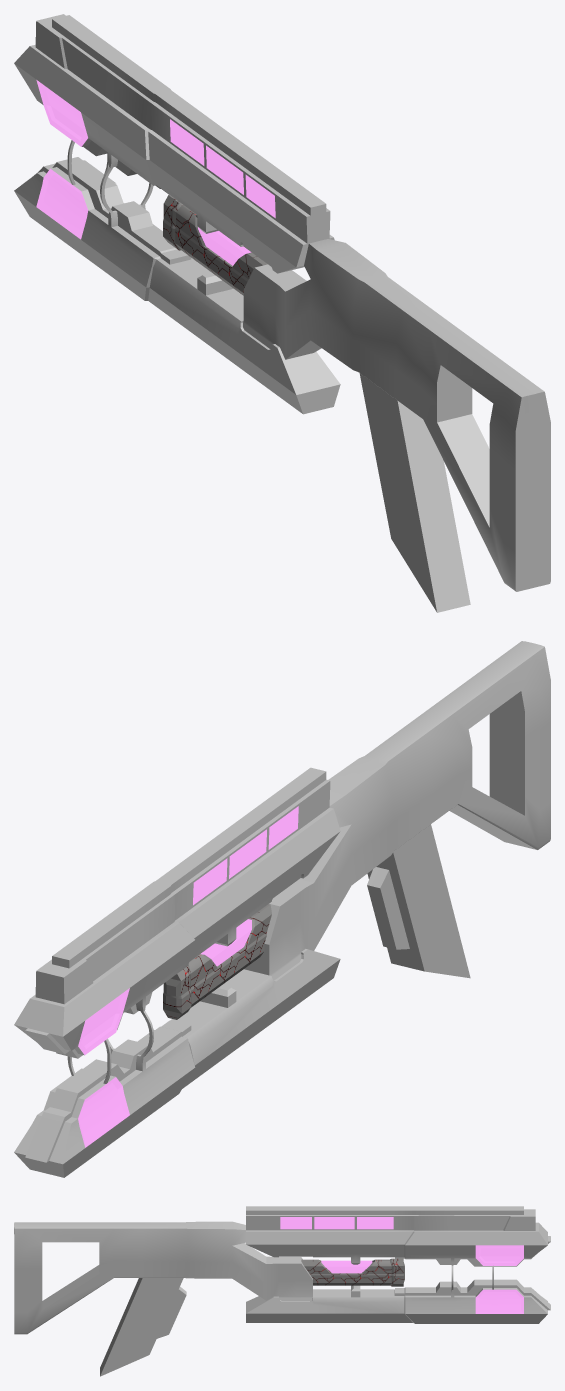
Rendered from BeamGunModel.fbx.
The picture shows the model from 3 angles, top to bottom: view 1: azimuth 30°, elevation 25°; view 2: azimuth 150°, elevation 25°; view 3: azimuth 270°, elevation 25°; orthographic projection. The views are drawn at different scales.
Visible parts, largest first — view 1: BeamGun; view 2: BeamGun; view 3: BeamGun.
Part boxes in pixels (left/top/right/bottom): BeamGun: left=14, top=14, right=550, bottom=612; BeamGun: left=14, top=641, right=550, bottom=1177; BeamGun: left=14, top=1206, right=550, bottom=1376.
Bounding box in the file's own units: 524 × 32.01 × 176.
